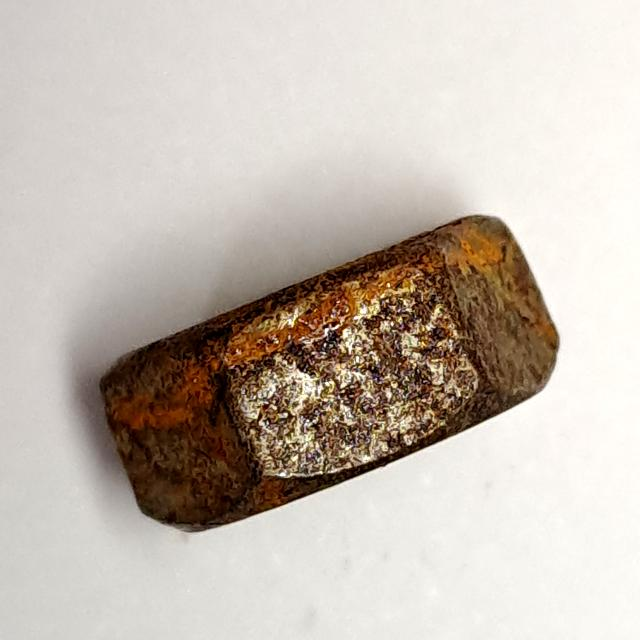Side_Rust: (83, 205, 565, 542)
